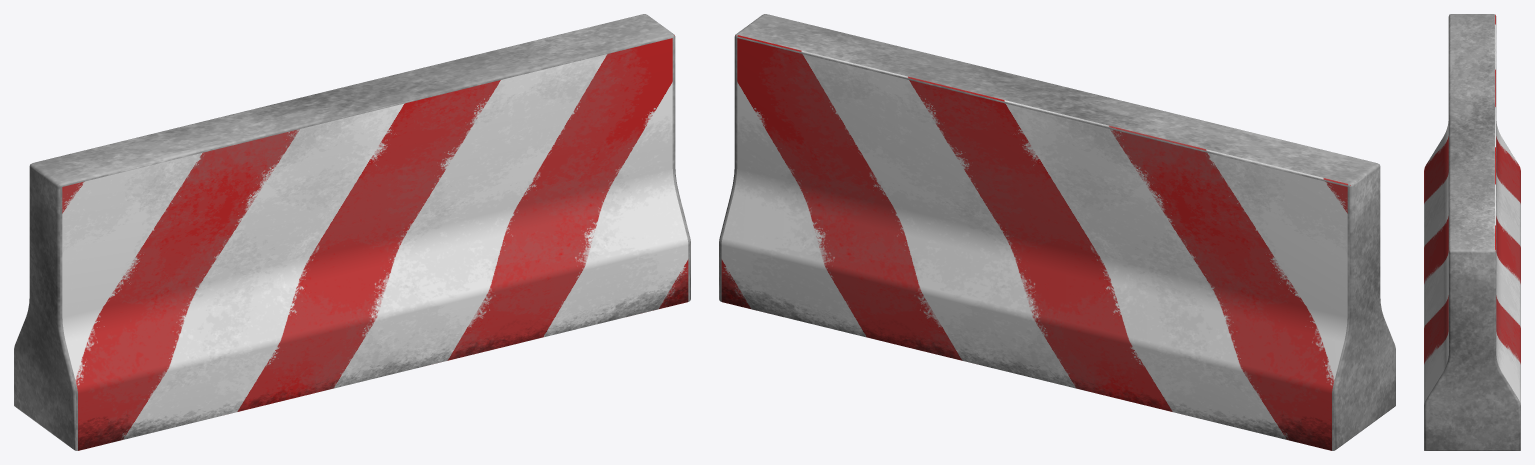
File: Barrier.fbx
3 renders of one model, left to right at view 1: azimuth 30°, elevation 25°; view 2: azimuth 150°, elevation 25°; view 3: azimuth 270°, elevation 25°, orthographic. The views are drawn at different scales.
Visible parts, largest first — view 1: Barrier_Concrete_LOD_0; view 2: Barrier_Concrete_LOD_0; view 3: Barrier_Concrete_LOD_0.
Part boxes in pixels (x1,y1,x2,y2): Barrier_Concrete_LOD_0: (14, 14, 690, 450); Barrier_Concrete_LOD_0: (719, 14, 1395, 450); Barrier_Concrete_LOD_0: (1424, 14, 1520, 450).
Size of the model in its own units: 639 by 252 by 110.
2 materials, 2 textured.
